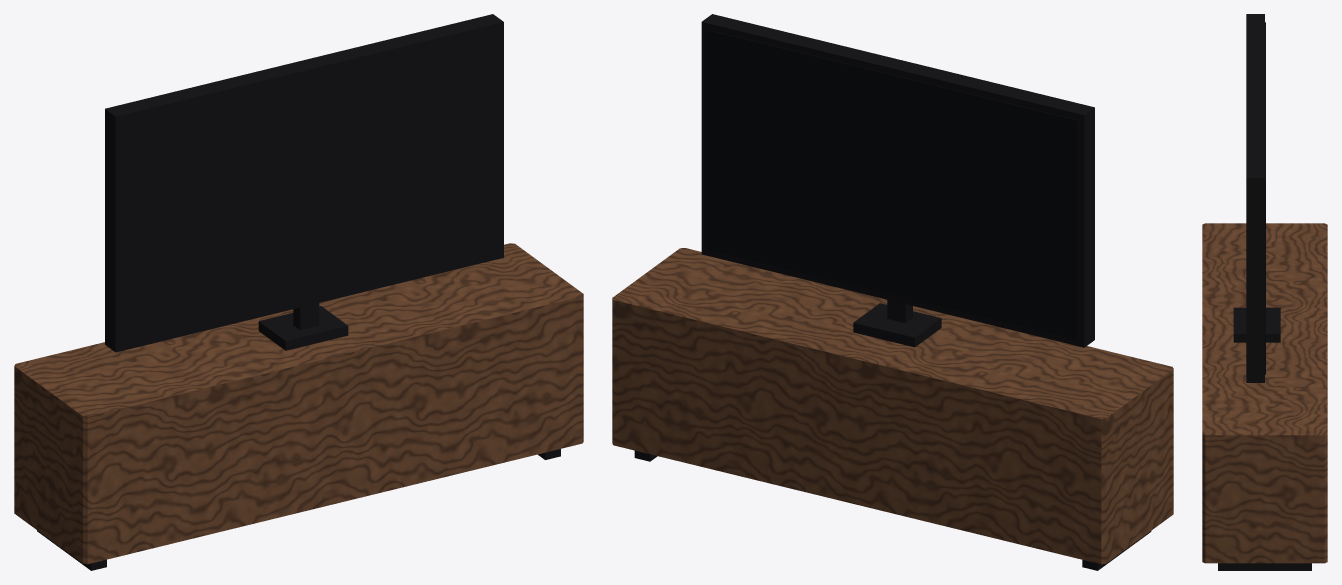
File: tv_cabinet.obj
The picture shows the model from 3 angles, left to right: view 1: azimuth 30°, elevation 25°; view 2: azimuth 150°, elevation 25°; view 3: azimuth 270°, elevation 25°; orthographic projection. The views are drawn at different scales.
Visible parts, largest first — view 1: tv_cabinet; view 2: tv_cabinet; view 3: tv_cabinet.
Boxes of the visible parts, box(x1,y1,x2,y2) form: tv_cabinet: box(14, 14, 583, 570); tv_cabinet: box(612, 14, 1173, 570); tv_cabinet: box(1202, 14, 1327, 570).
Size of the model in its own units: 1.6 by 1.32 by 0.4.
3 materials, 1 textured.
